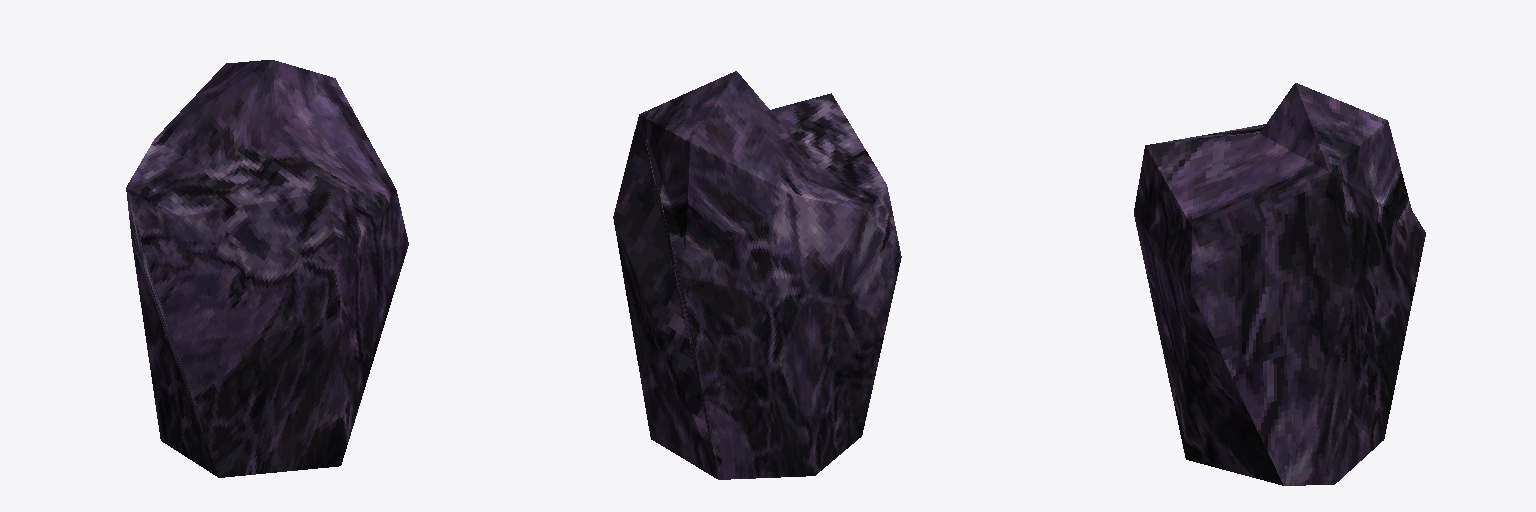
The picture shows the model from 3 angles: view 1: azimuth 30°, elevation 25°; view 2: azimuth 150°, elevation 25°; view 3: azimuth 270°, elevation 25°; orthographic projection.
Visible parts, largest first — view 1: Node 0; view 2: Node 0; view 3: Node 0.
Part boxes in pixels (bbox=[...]): Node 0: bbox=[126, 60, 408, 477]; Node 0: bbox=[613, 71, 901, 479]; Node 0: bbox=[1134, 83, 1425, 485].
Size of the model in its own units: 2.15 by 3.21 by 2.3.
1 materials, 1 textured.